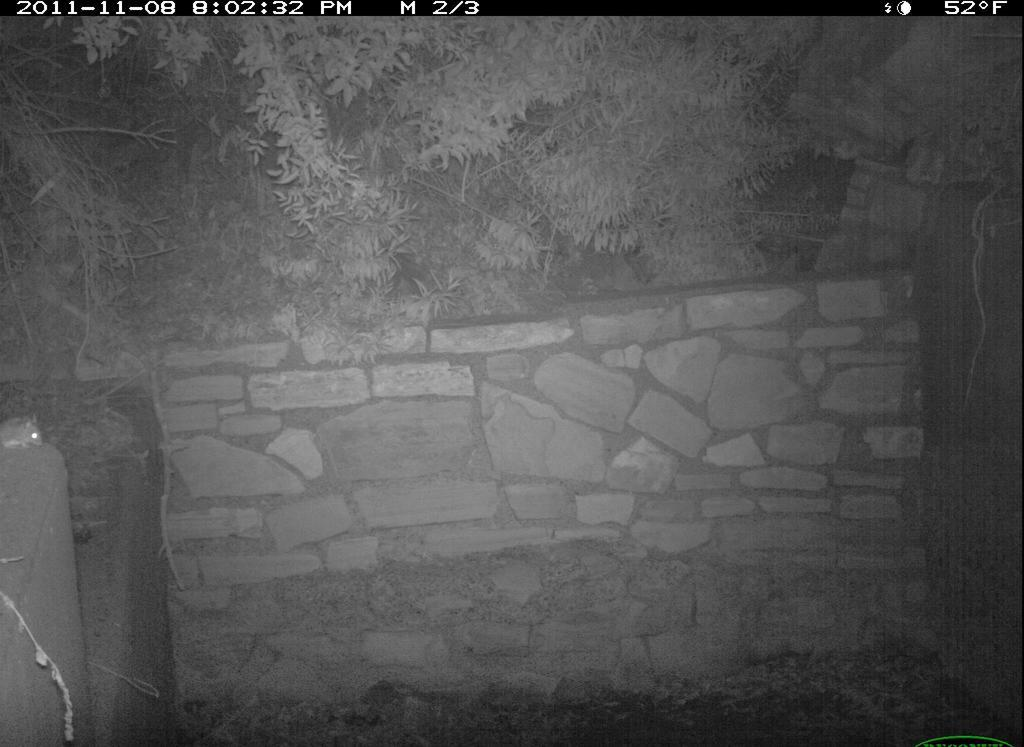rodent: (3, 408, 45, 456)
